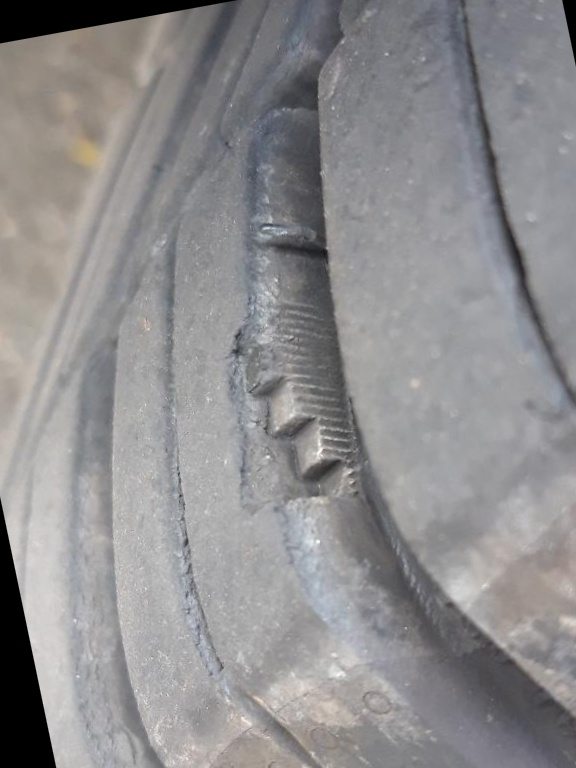temoin:80: (186, 273, 381, 537)
